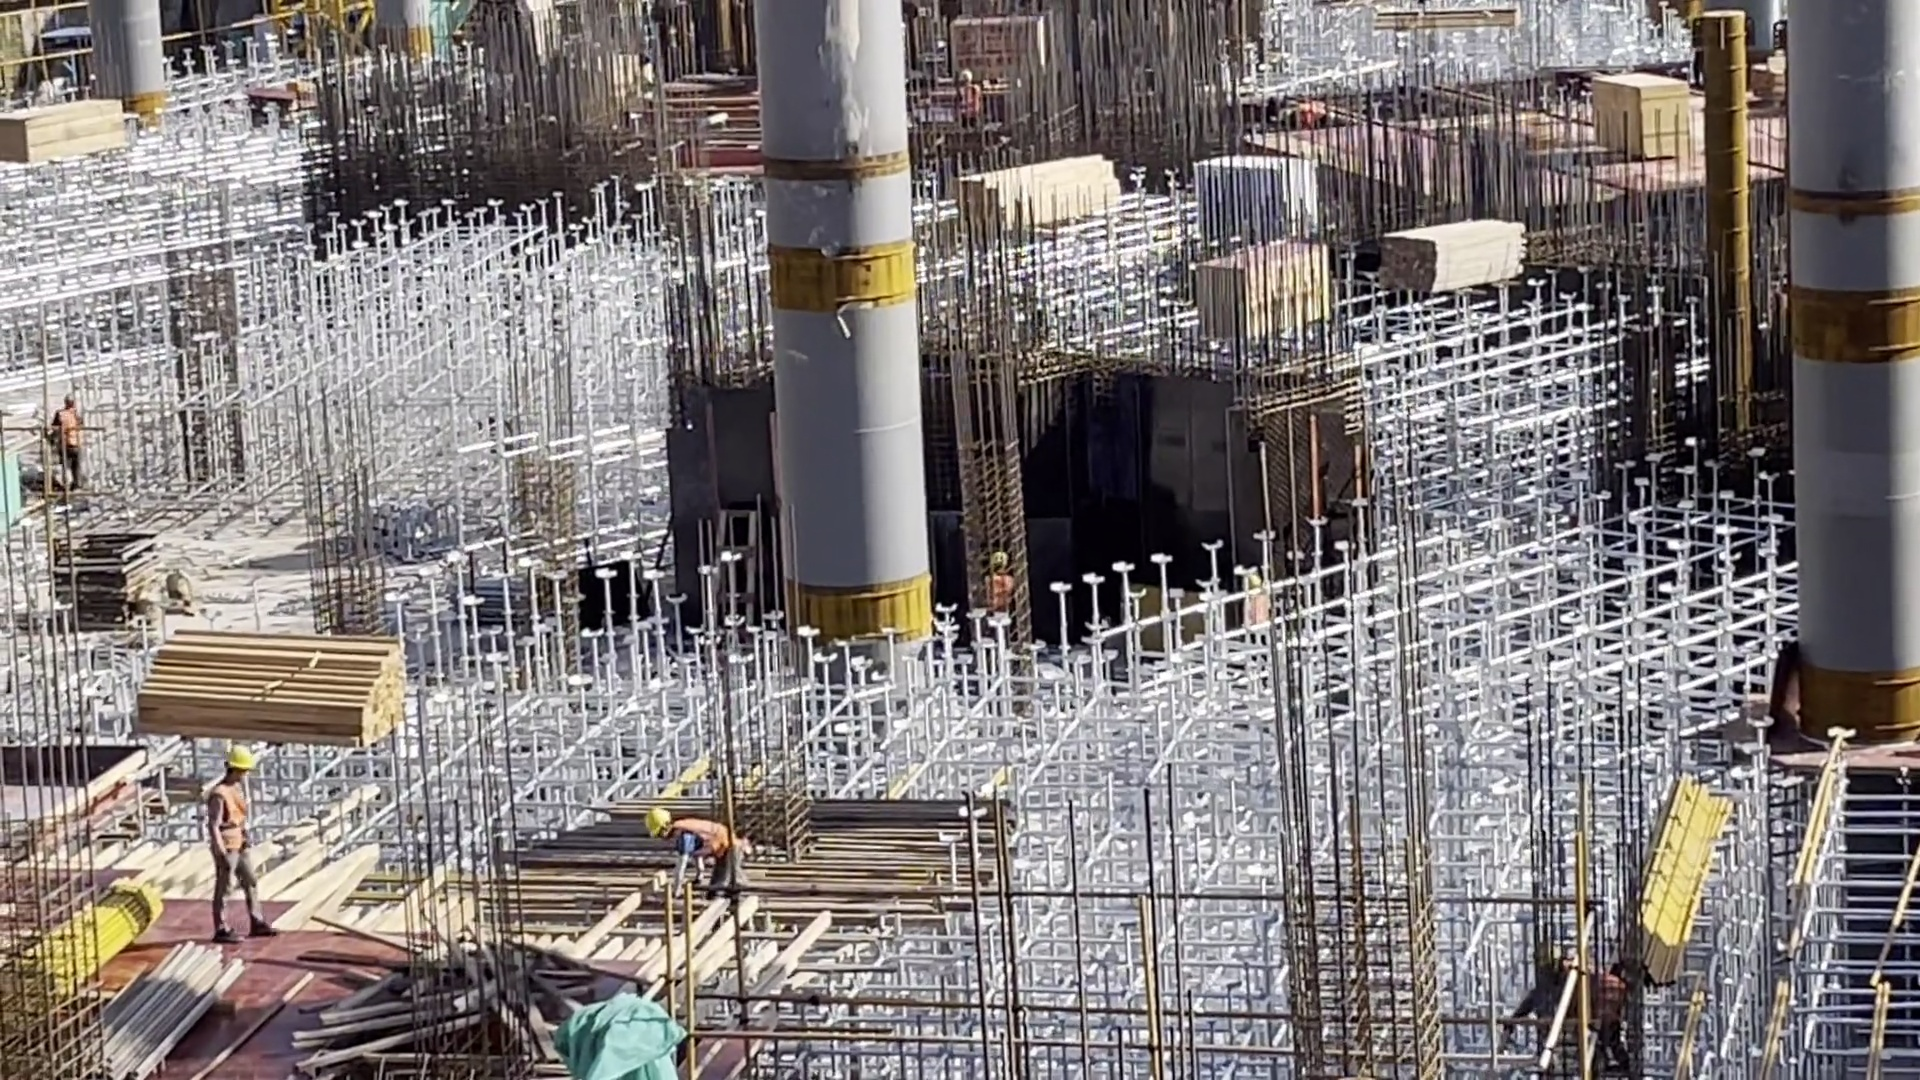helmet: (634, 803, 667, 840), (221, 743, 251, 782), (983, 553, 1004, 578), (56, 387, 77, 411)
person: (192, 746, 270, 934), (640, 800, 737, 912), (41, 385, 87, 485), (980, 550, 1022, 644)
vest: (211, 783, 263, 869), (672, 815, 733, 856), (51, 414, 82, 457)
wood: (115, 624, 408, 748), (766, 804, 1007, 937), (89, 918, 228, 1080), (1378, 215, 1523, 296)
